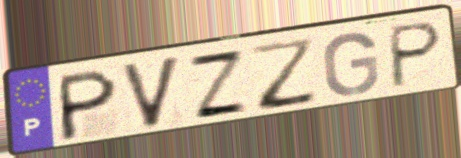G: (320, 30, 381, 98)
P: (57, 66, 121, 143), (388, 19, 446, 92)
V: (117, 53, 184, 132)
Z: (248, 34, 321, 113), (185, 48, 251, 121)
